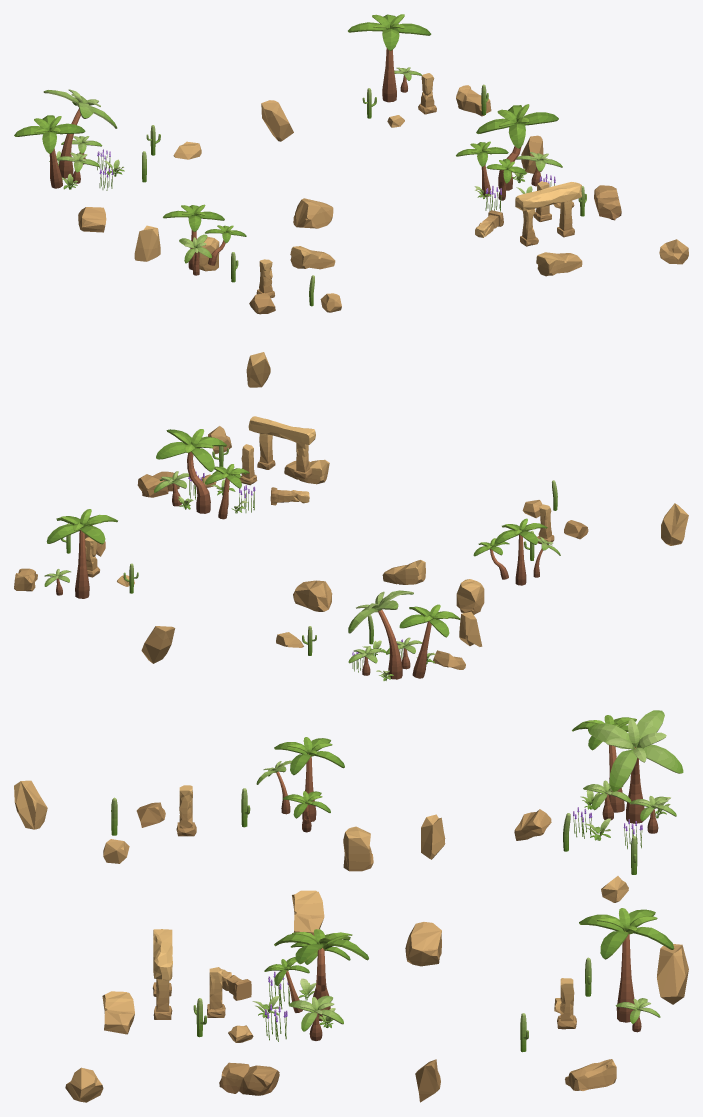
Rendered from desert_oasis.glb.
The picture shows the model from 3 angles, top to bottom: view 1: azimuth 30°, elevation 25°; view 2: azimuth 150°, elevation 25°; view 3: azimuth 270°, elevation 25°; orthographic projection. The views are drawn at different scales.
Visible parts, largest first — view 1: desert stone arche_7, palm tree large 3 (1)_0, palm tree bent 3 (1)_50, palm tree large 3_8, palm tree tilted 3 (1)_20, desert stone small 15_16, desert stone small 12 (1)_33, desert stone small 10 (1)_19, palm tree large 3 (2)_17, desert stone small 12_9, desert stone small 17_12, desert stone small 7 (1)_24 (+6 smaller); view 2: desert stone arche_7, palm tree bent 3 (1)_50, palm tree large 3 (1)_0, palm tree tilted 3 (1)_20, palm tree large 3_8, palm tree large 3 (2)_17, desert stone small 15_16, desert stone small 11 (1)_46, desert stone small 10 (1)_19, desert stone small 13_49, desert stone small 12_9, palm tree large 3 (3)_23 (+12 smaller); view 3: palm tree tilted 3 (1)_20, palm tree large 3 (1)_0, palm tree bent 3 (1)_50, desert stone arche_7, desert stone small 17_12, desert stone small 10 (1)_19, palm tree large 3 (2)_17, desert stone small 15_16, desert stone small 11 (1)_46, desert stone small 12 (1)_33, desert stone small 12_9, desert stone small 16_6 (+15 smaller).
Boxes of the visible parts, left/top/right/bottom form: desert stone arche_7: left=515, top=182, right=581, bottom=246; palm tree large 3 (1)_0: left=348, top=14, right=431, bottom=102; palm tree bent 3 (1)_50: left=476, top=104, right=558, bottom=190; palm tree large 3_8: left=14, top=115, right=85, bottom=188; palm tree tilted 3 (1)_20: left=43, top=89, right=117, bottom=178; desert stone small 15_16: left=293, top=198, right=333, bottom=228; desert stone small 12 (1)_33: left=536, top=252, right=582, bottom=276; desert stone small 10 (1)_19: left=261, top=100, right=293, bottom=141; palm tree large 3 (2)_17: left=163, top=204, right=224, bottom=270; desert stone small 12_9: left=290, top=246, right=335, bottom=269; desert stone small 17_12: left=594, top=185, right=621, bottom=220; desert stone small 7 (1)_24: left=134, top=225, right=160, bottom=261; desert stone arche_7: left=248, top=416, right=315, bottom=478; palm tree bent 3 (1)_50: left=156, top=429, right=226, bottom=513; palm tree large 3 (1)_0: left=46, top=509, right=117, bottom=598; palm tree tilted 3 (1)_20: left=348, top=590, right=413, bottom=679; palm tree large 3_8: left=399, top=604, right=460, bottom=678; palm tree large 3 (2)_17: left=494, top=518, right=547, bottom=585; desert stone small 15_16: left=293, top=580, right=332, bottom=611; desert stone small 11 (1)_46: left=661, top=503, right=688, bottom=545; desert stone small 10 (1)_19: left=141, top=626, right=175, bottom=663; desert stone small 13_49: left=456, top=579, right=484, bottom=614; desert stone small 12_9: left=382, top=560, right=425, bottom=584; palm tree large 3 (3)_23: left=205, top=464, right=249, bottom=519; palm tree tilted 3 (1)_20: left=588, top=710, right=683, bottom=823; palm tree large 3 (1)_0: left=579, top=908, right=674, bottom=1022; palm tree bent 3 (1)_50: left=274, top=929, right=368, bottom=1021; desert stone arche_7: left=152, top=929, right=172, bottom=1019; desert stone small 17_12: left=219, top=1062, right=279, bottom=1095; desert stone small 10 (1)_19: left=657, top=944, right=688, bottom=1004; palm tree large 3 (2)_17: left=274, top=737, right=344, bottom=821; desert stone small 15_16: left=405, top=922, right=441, bottom=966; desert stone small 11 (1)_46: left=14, top=780, right=47, bottom=829; desert stone small 12 (1)_33: left=102, top=991, right=134, bottom=1034; desert stone small 12_9: left=292, top=890, right=324, bottom=935; desert stone small 16_6: left=565, top=1059, right=616, bottom=1090.
Bounding box in the file's own units: 17.77 × 4.13 × 17.61.
1 material, 1 textured.
